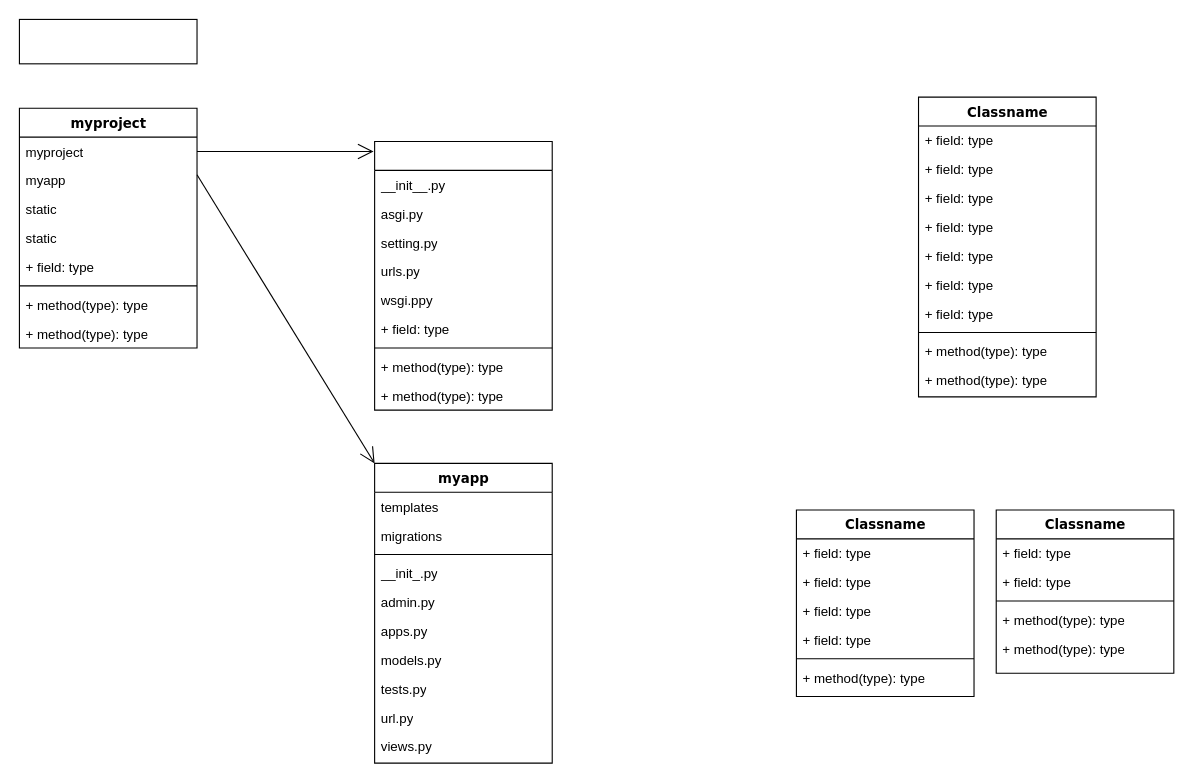
This 1193x784 diagram has some shape labels left out. The box of each missing label's shape, as (x1, y1, x2, y2) in pixels:
File Component: (18, 18, 197, 64)
myprooject: (374, 140, 552, 410)
